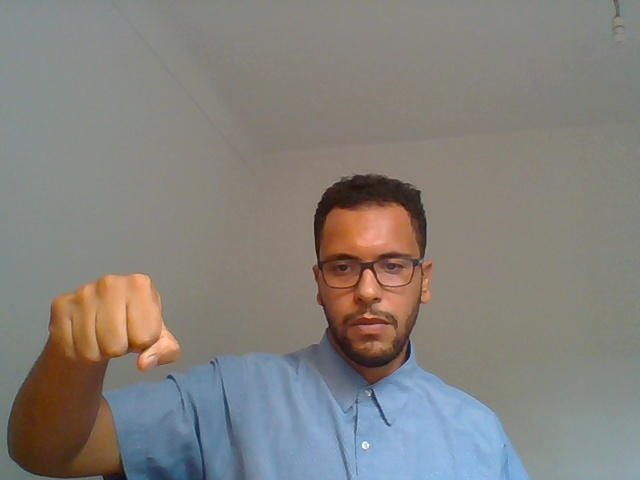yes: (22, 226, 187, 466)
